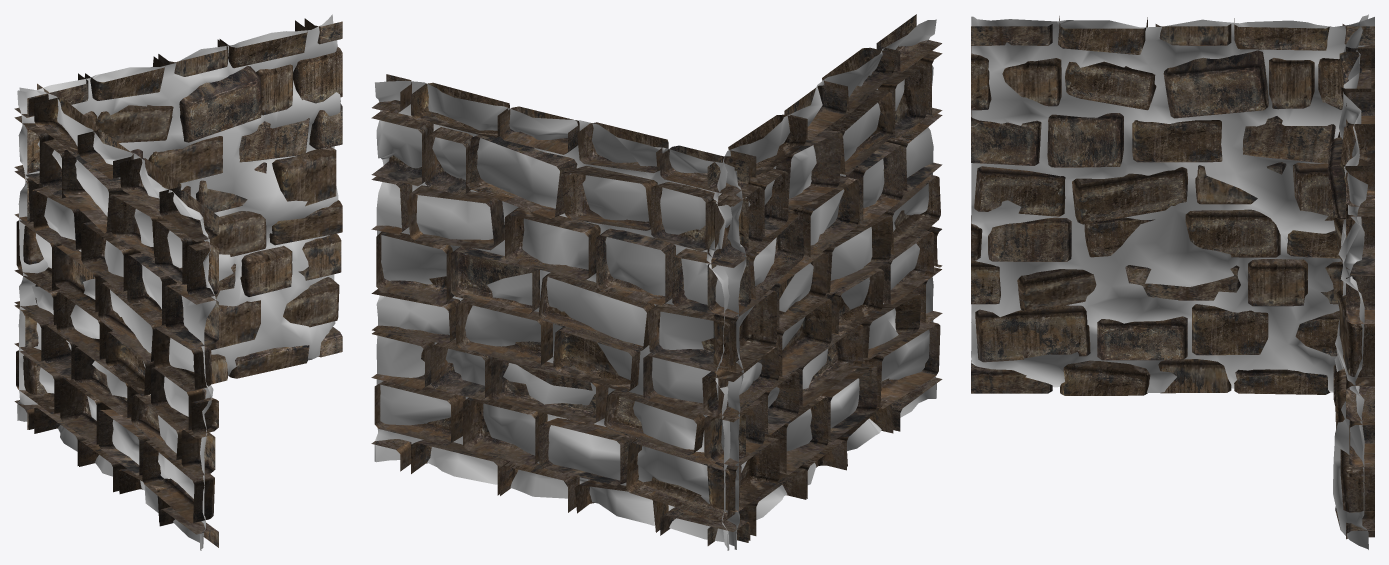
The model's file is taureg_concave.dae.
3 views of the same model, side by side, from view 1: azimuth 30°, elevation 25°; view 2: azimuth 150°, elevation 25°; view 3: azimuth 270°, elevation 25° (orthographic). The views are drawn at different scales.
Parts seen in each view (by area): view 1: Mesh__2_, Mesh; view 2: Mesh__2_, Mesh; view 3: Mesh__2_, Mesh.
Part boxes in pixels (x1,y1,x2,y2): Mesh__2_: (14,18,342,547); Mesh: (17,14,340,550); Mesh__2_: (371,14,942,545); Mesh: (374,19,936,550); Mesh__2_: (971,16,1374,539); Mesh: (971,14,1374,549).
Bounding box in the file's own units: 4 × 4.02 × 4.
